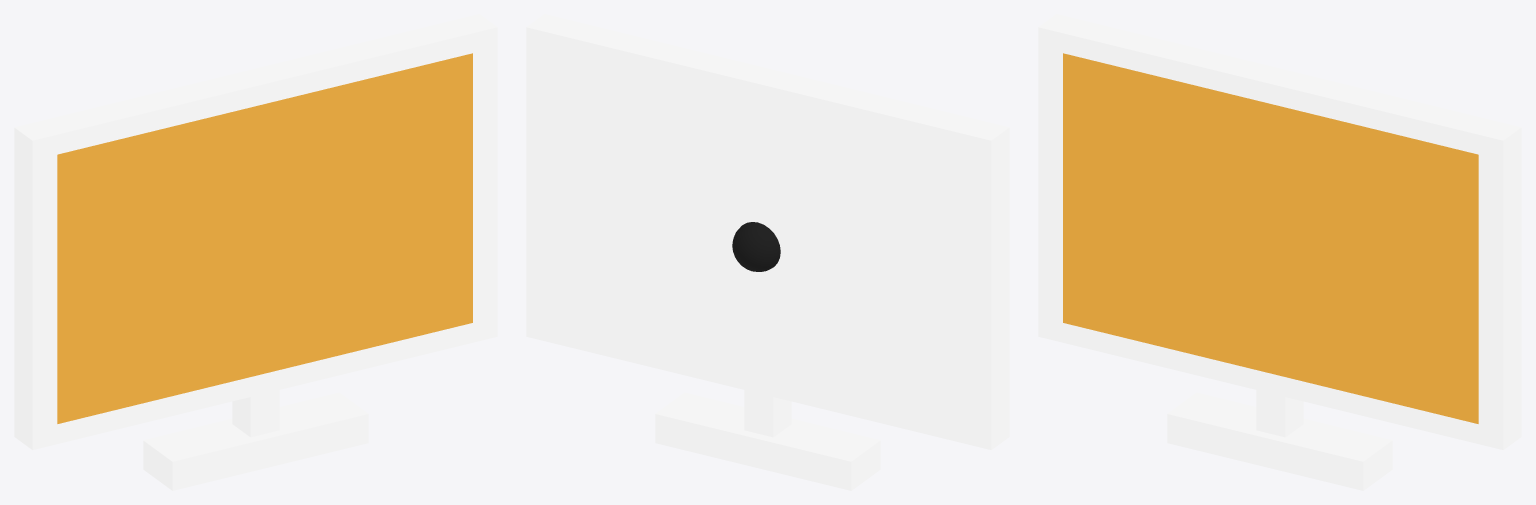
Rendered from 显示器3.fbx.
The picture shows the model from 3 angles, left to right: view 1: azimuth 30°, elevation 25°; view 2: azimuth 150°, elevation 25°; view 3: azimuth 330°, elevation 25°; orthographic projection.
Parts seen in each view (by area): view 1: 空白_1; view 2: 空白_1; view 3: 空白_1.
Part boxes in pixels (x1,y1,x2,y2): 空白_1: (14, 14, 497, 490); 空白_1: (526, 14, 1009, 490); 空白_1: (1038, 14, 1521, 490).
Bounding box in the file's own units: 72.04 × 56.08 × 9.74.
